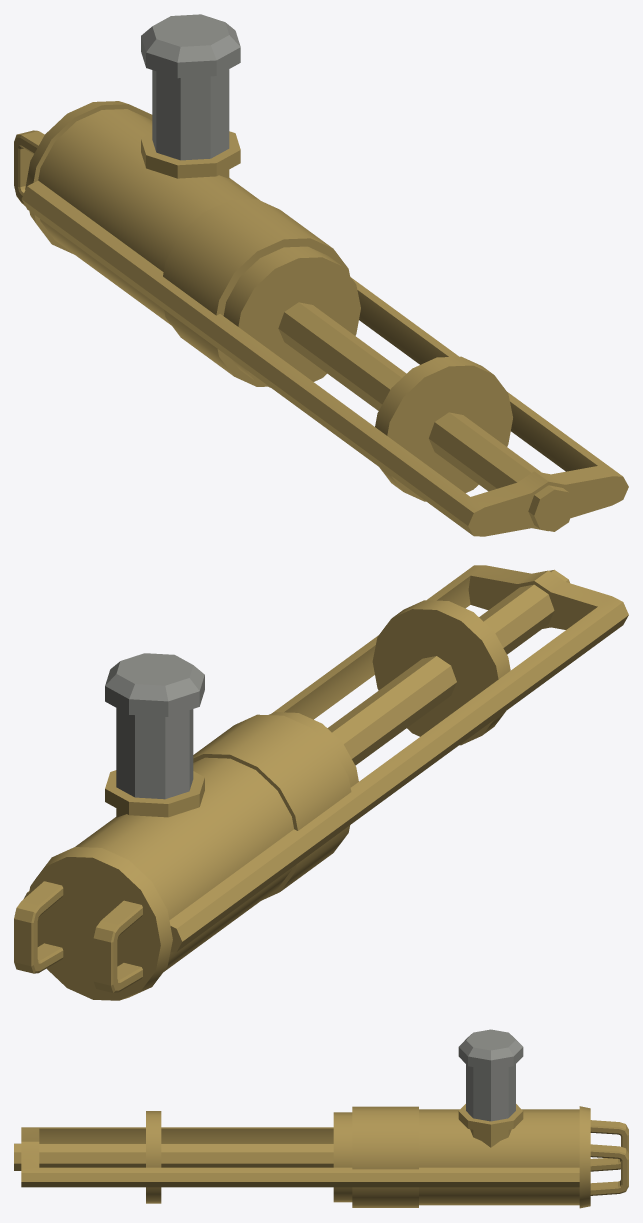
The model's file is Gatling Body.fbx.
3 views of the same model, one above another, from view 1: azimuth 30°, elevation 25°; view 2: azimuth 150°, elevation 25°; view 3: azimuth 270°, elevation 25° (orthographic). The views are drawn at different scales.
Visible parts, largest first — view 1: Gutling Body; view 2: Gutling Body; view 3: Gutling Body.
Boxes of the visible parts, box(x1,y1,x2,y2) form: Gutling Body: box(14, 14, 628, 536); Gutling Body: box(14, 565, 628, 1000); Gutling Body: box(14, 1029, 628, 1208).
Bounding box in the file's own units: 53.07 × 85.39 × 281.
